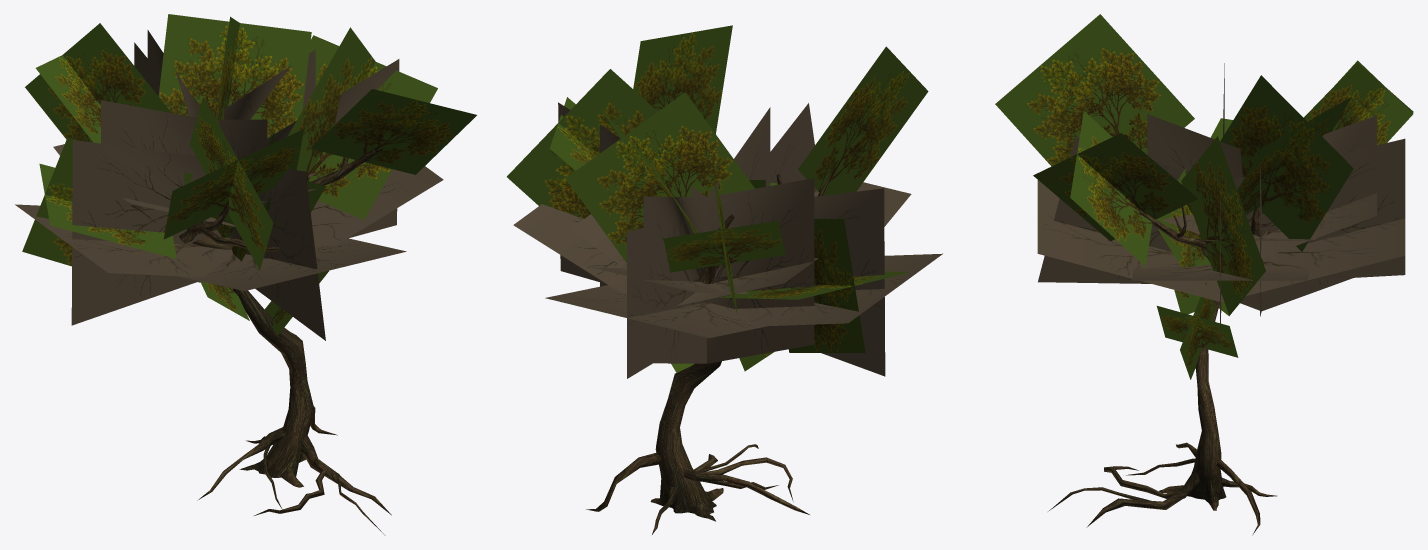
File: zhaozeshu_60.FBX
3 views of the same model, side by side, from view 1: azimuth 30°, elevation 25°; view 2: azimuth 150°, elevation 25°; view 3: azimuth 270°, elevation 25° (orthographic). The views are drawn at different scales.
Parts seen in each view (by area): view 1: zhaozeshu_60_shuye, zhaozeshu_60_shuzhi, zhaozeshu_60_ncl1_2; view 2: zhaozeshu_60_shuye, zhaozeshu_60_shuzhi, zhaozeshu_60_ncl1_2; view 3: zhaozeshu_60_shuye, zhaozeshu_60_shuzhi, zhaozeshu_60_ncl1_2.
Part boxes in pixels (left/top/right/bottom): zhaozeshu_60_shuye: left=22, top=14, right=476, bottom=335; zhaozeshu_60_shuzhi: left=15, top=30, right=443, bottom=340; zhaozeshu_60_ncl1_2: left=129, top=149, right=391, bottom=535; zhaozeshu_60_shuye: left=507, top=25, right=928, bottom=372; zhaozeshu_60_shuzhi: left=513, top=102, right=942, bottom=378; zhaozeshu_60_ncl1_2: left=586, top=164, right=835, bottom=534; zhaozeshu_60_shuye: left=995, top=14, right=1413, bottom=379; zhaozeshu_60_shuzhi: left=1037, top=63, right=1405, bottom=349; zhaozeshu_60_ncl1_2: left=1048, top=135, right=1276, bottom=535.
Size of what is drawn, in the model's own units: 1541 by 1800 by 1587.
